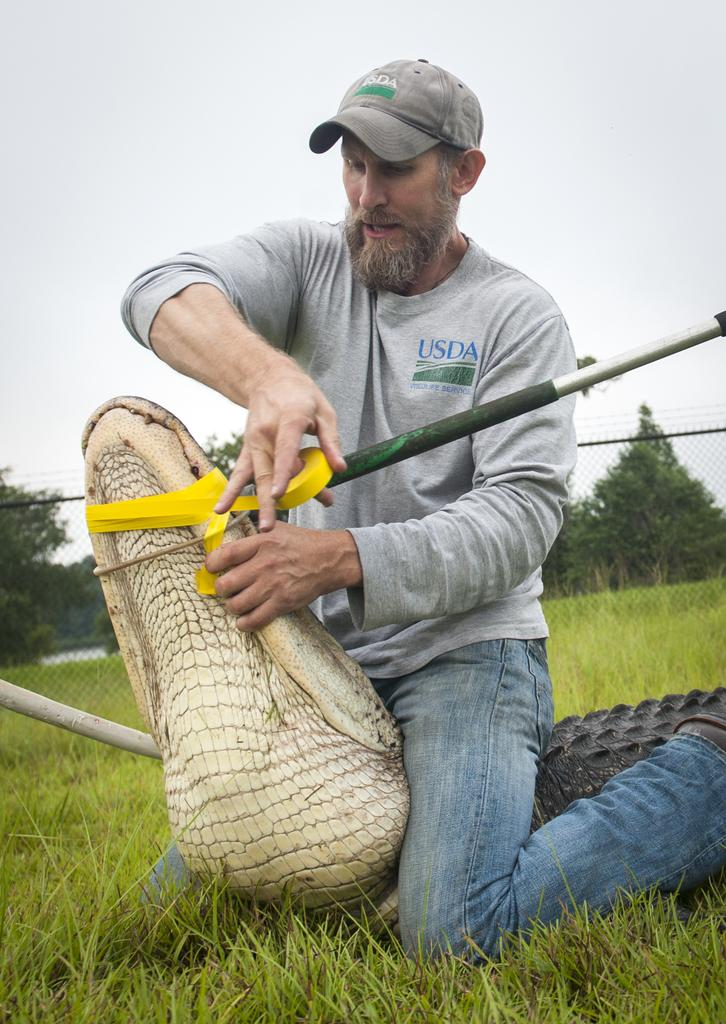Hat: (309, 56, 477, 161)
